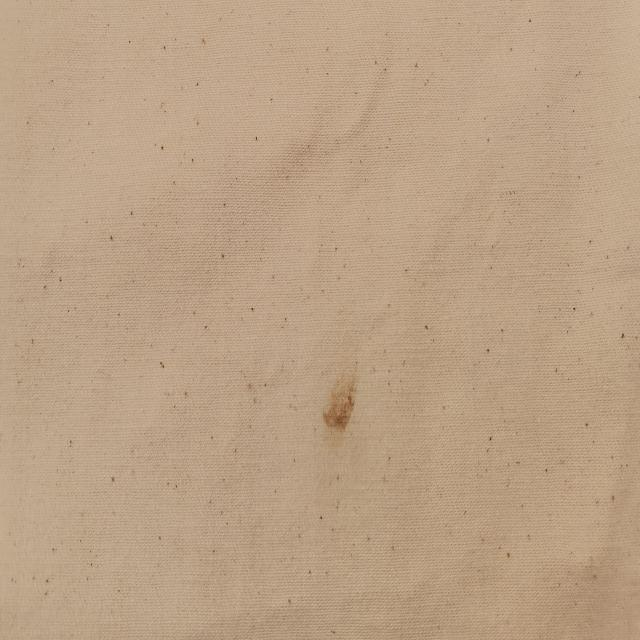taaaches: (320, 366, 361, 448)
